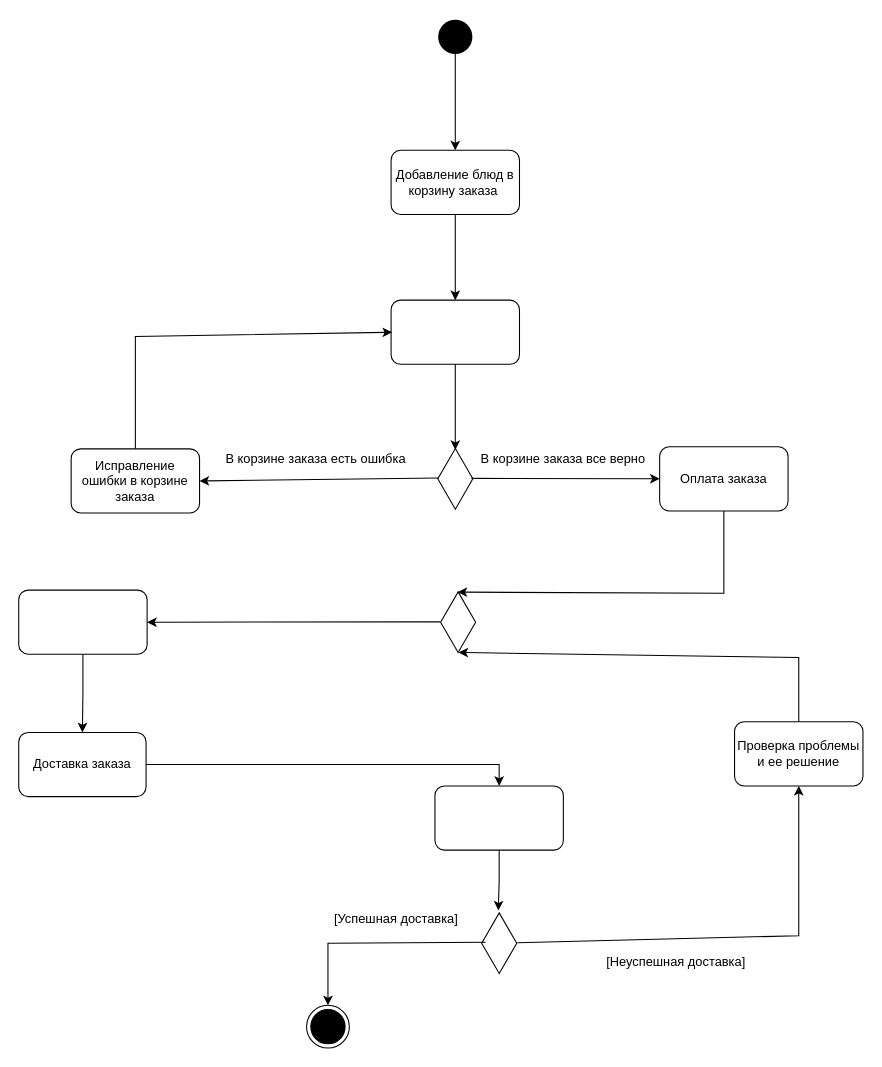
This 882x1067 diagram has some shape labels left out. Here are the shapes that lost their labels. From the top down, the box of each, then its label:
(390, 299, 519, 364): Подтверждение заказа
(18, 589, 147, 654): Выдача заказа курьеру
(434, 785, 563, 850): Отзыв клиента
